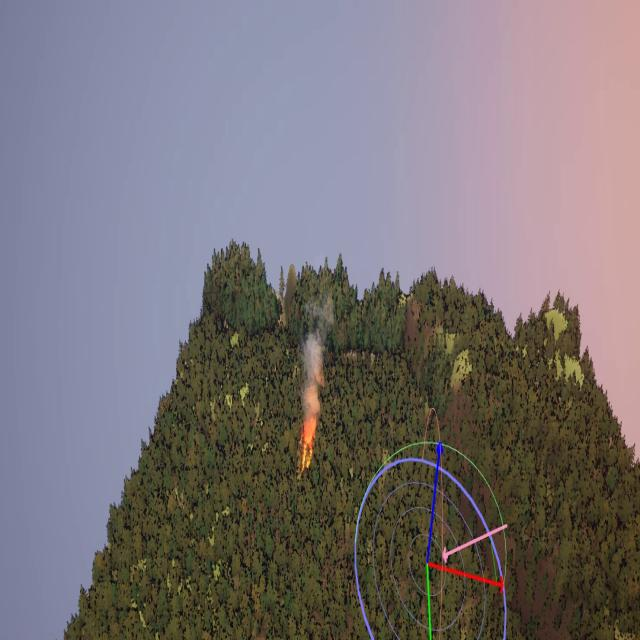fire: (298, 421, 318, 476)
smoke: (301, 328, 326, 426)
